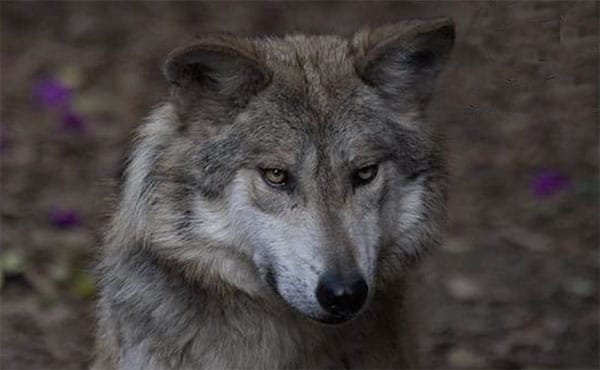Lobo: (73, 10, 506, 362)
